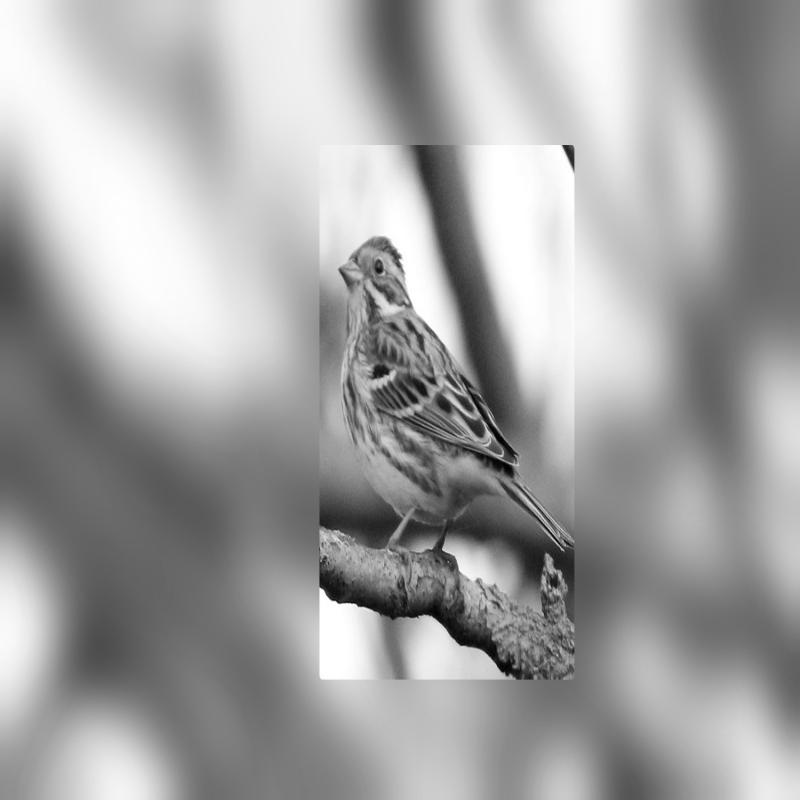rustic bunting: (320, 213, 574, 578)
